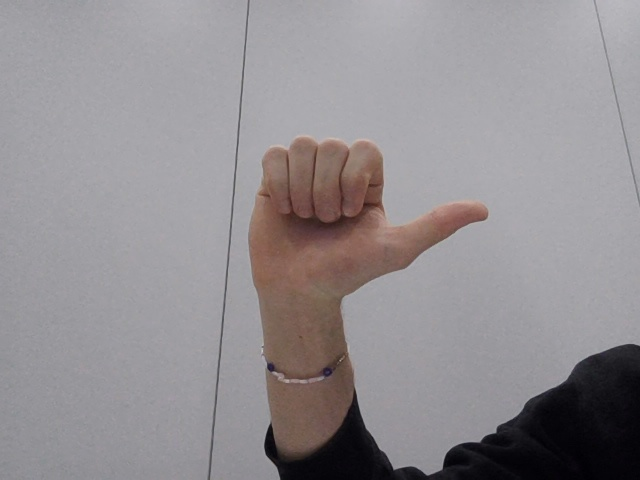left: (211, 117, 507, 329)
